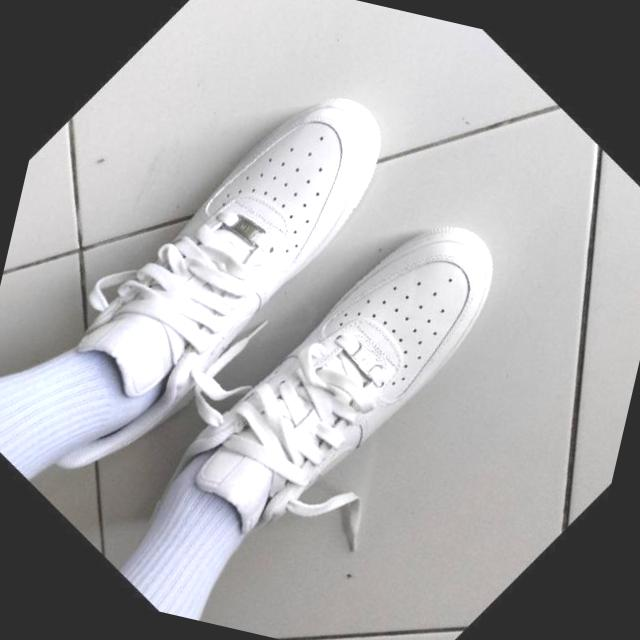nike_original_airforce: (0, 4, 447, 557), (108, 138, 546, 640)
